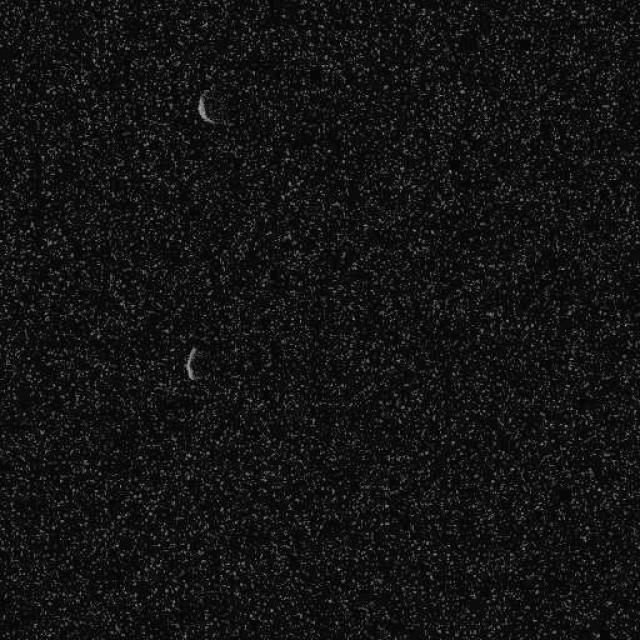D2: (196, 90, 218, 125), (182, 345, 202, 381)
